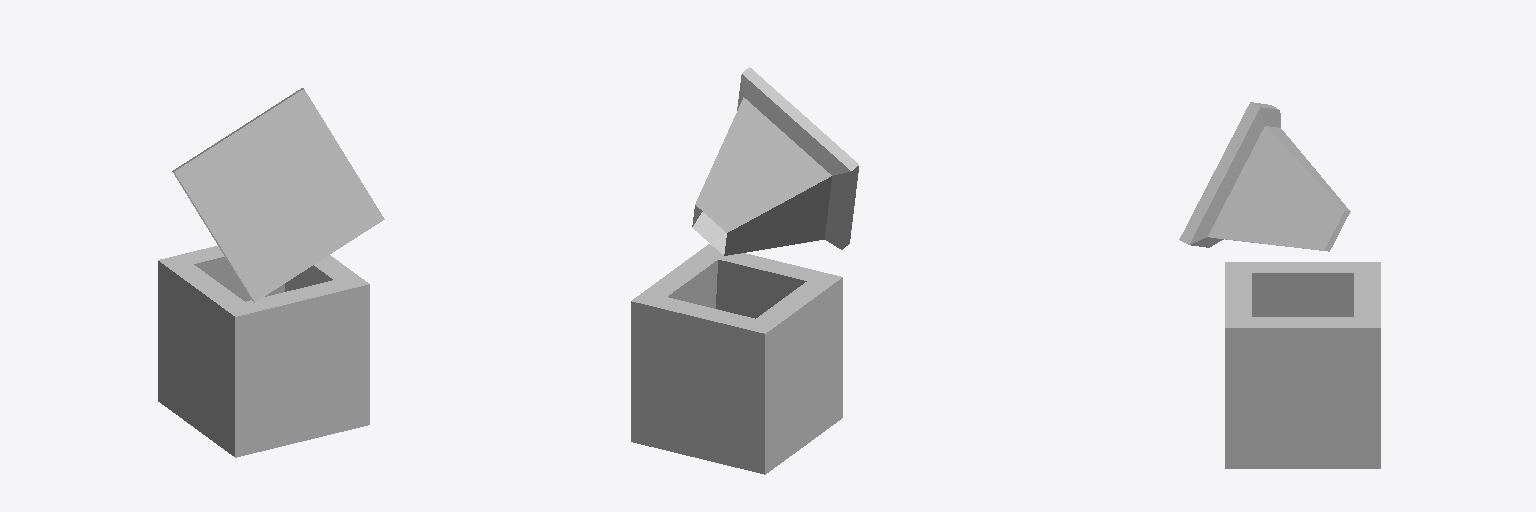
Rendered from AnimatedBox_000025.obj.
3 views of the same model, side by side, from view 1: azimuth 30°, elevation 25°; view 2: azimuth 150°, elevation 25°; view 3: azimuth 270°, elevation 25° (orthographic).
Visible parts, largest first — view 1: Cube, Cube.001; view 2: Cube, Cube.001; view 3: Cube, Cube.001.
Part boxes in pixels (bbox=[...]): Cube: bbox=[158, 246, 369, 457]; Cube.001: bbox=[172, 88, 384, 302]; Cube: bbox=[631, 244, 842, 474]; Cube.001: bbox=[692, 67, 858, 255]; Cube: bbox=[1225, 262, 1380, 468]; Cube.001: bbox=[1179, 102, 1350, 251].
Bounding box in the file's own units: 2.58 × 4.83 × 2.6.